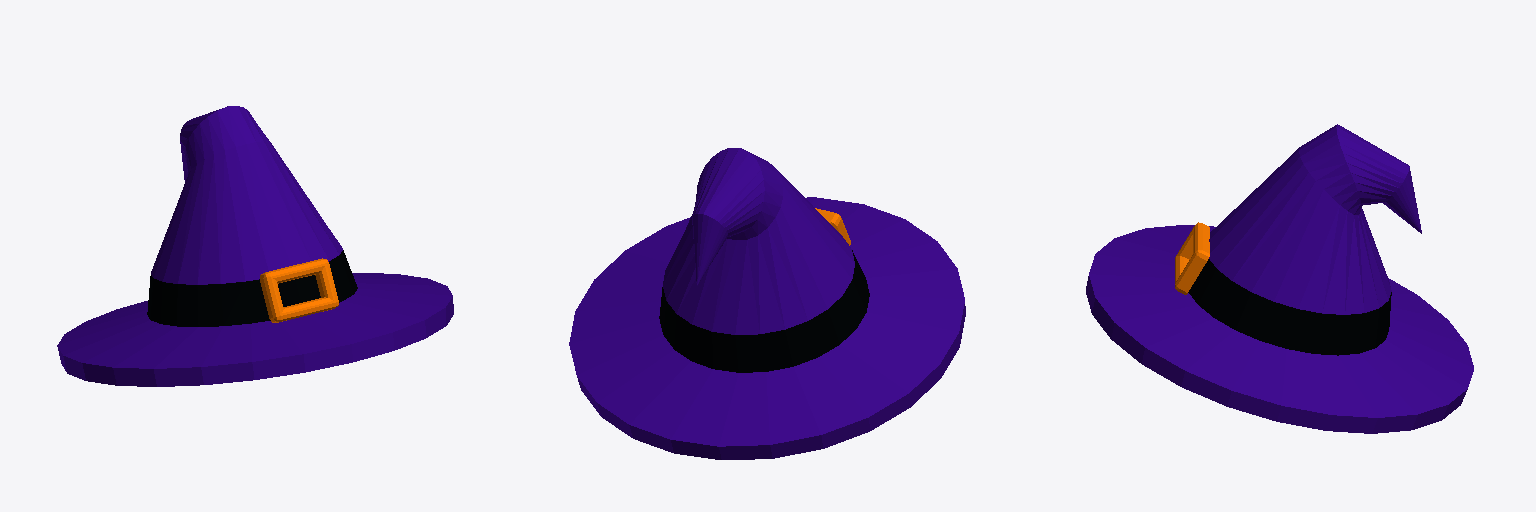
Rendered from character_witchHat.obj.
3 renders of one model, left to right at view 1: azimuth 30°, elevation 25°; view 2: azimuth 150°, elevation 25°; view 3: azimuth 270°, elevation 25°, orthographic.
Parts seen in each view (by area): view 1: character_witchHat_Cube.004; view 2: character_witchHat_Cube.004; view 3: character_witchHat_Cube.004.
Boxes of the visible parts, x1=… form: character_witchHat_Cube.004: x1=57, y1=106, x2=453, y2=386; character_witchHat_Cube.004: x1=569, y1=148, x2=965, y2=459; character_witchHat_Cube.004: x1=1086, y1=124, x2=1473, y2=433.
Bounding box in the file's own units: 1.23 × 0.8789 × 1.2.